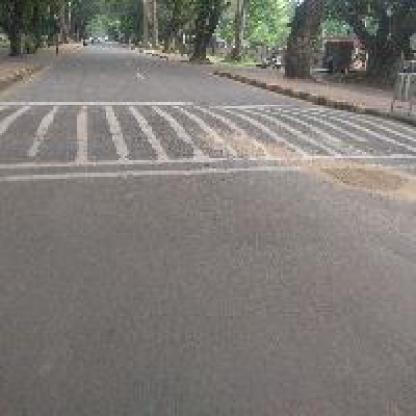Speed Bump: (0, 96, 414, 183)
